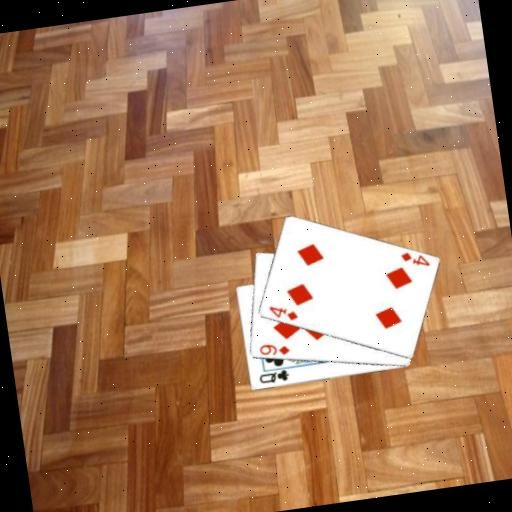4D: (265, 300, 300, 326), (397, 246, 432, 272)
9D: (256, 338, 292, 360)
QC: (255, 367, 291, 387)
